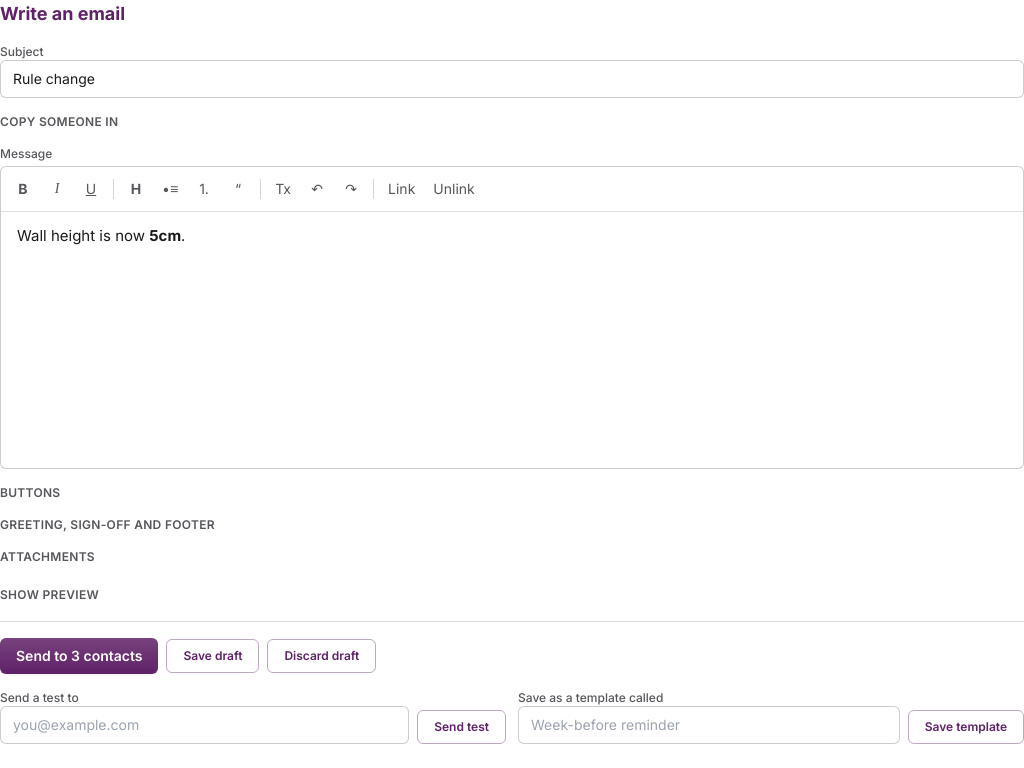
Scenario: the preview › says the header and footer are not in it, so nobody reads it as the whole email
Click the button "Show preview": (50, 595) top-left (0, 587), bottom-right (99, 603)
(page scrolled)
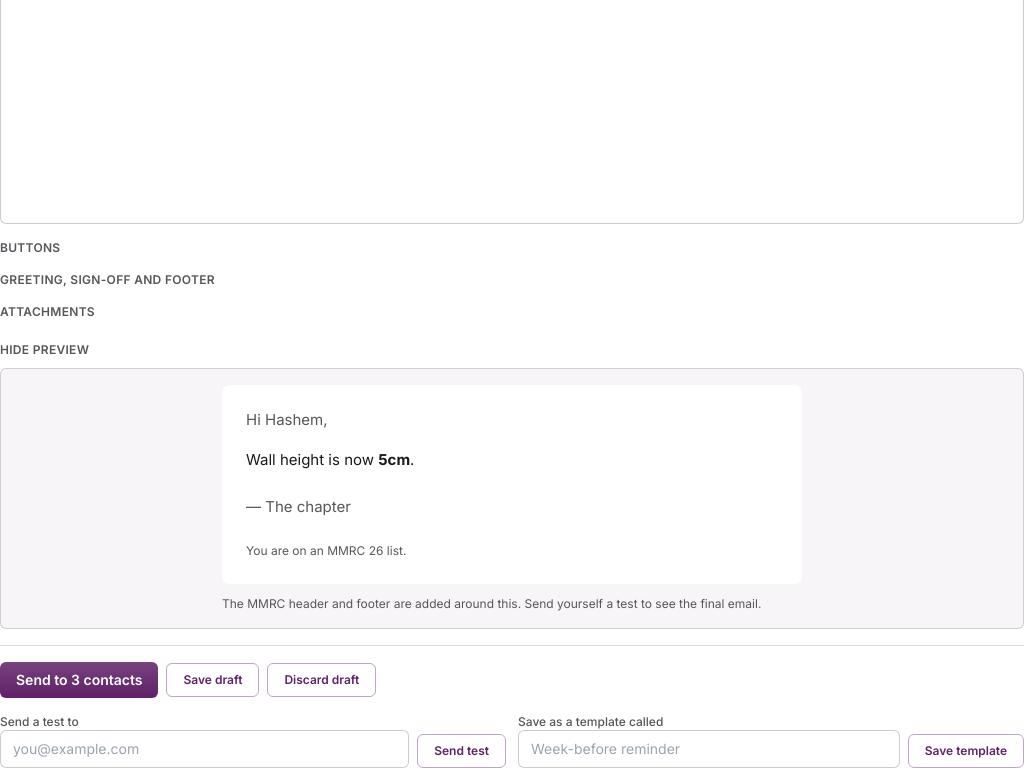
expect the text "Send yourself a test" is shown: met, box top-left (222, 596), bottom-right (761, 611)
